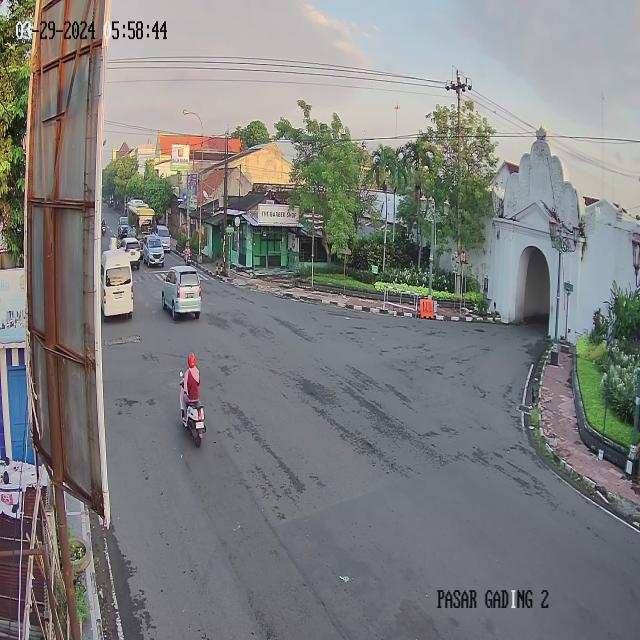bus: (97, 247, 135, 324), (126, 204, 155, 248), (126, 197, 151, 225)
car: (160, 264, 203, 323), (119, 235, 142, 272), (142, 236, 165, 270), (155, 223, 172, 254), (117, 213, 131, 234)
motorcycle: (178, 351, 209, 453), (183, 242, 193, 266), (100, 217, 108, 238)
